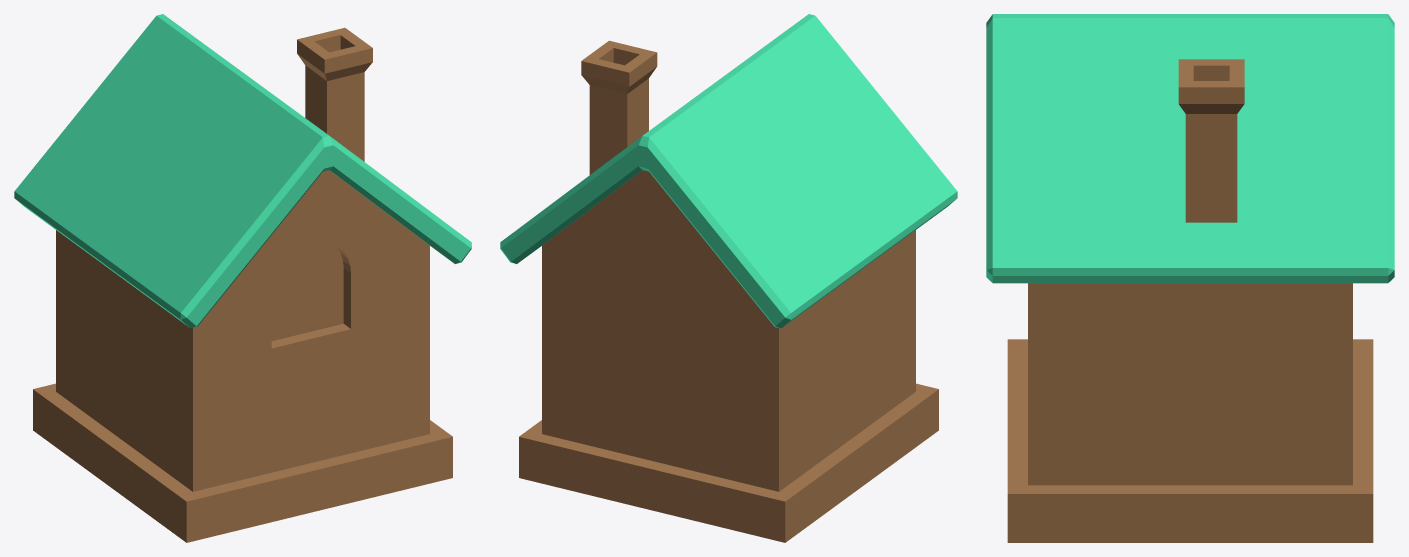
3 renders of one model, left to right at view 1: azimuth 30°, elevation 25°; view 2: azimuth 150°, elevation 25°; view 3: azimuth 270°, elevation 25°, orthographic. The views are drawn at different scales.
Parts seen in each view (by area): view 1: Cube, top, Cube.002; view 2: Cube, top, Cube.002; view 3: top, Cube, Cube.002.
Part boxes in pixels (<box>): Cube: <box>33,170,452,542</box>; top: <box>14,14,471,328</box>; Cube.002: <box>297,27,372,161</box>; Cube: <box>519,170,938,542</box>; top: <box>500,14,957,328</box>; Cube.002: <box>581,40,657,174</box>; top: <box>986,14,1394,283</box>; Cube: <box>1007,283,1373,542</box>; Cube.002: <box>1178,59,1244,222</box>.
Bounding box in the file's own units: 2.46 × 3.06 × 2.51.
